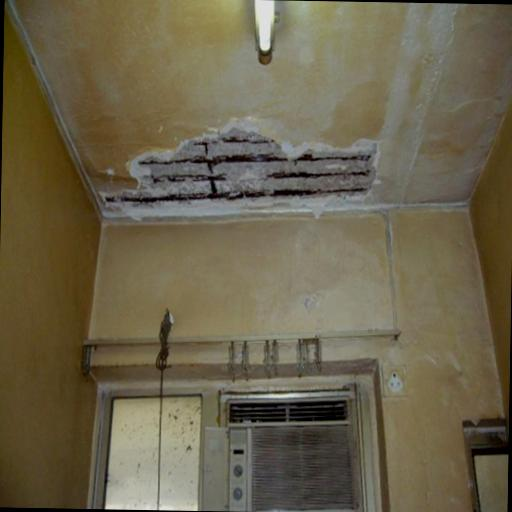spalling: (98, 125, 376, 218)
